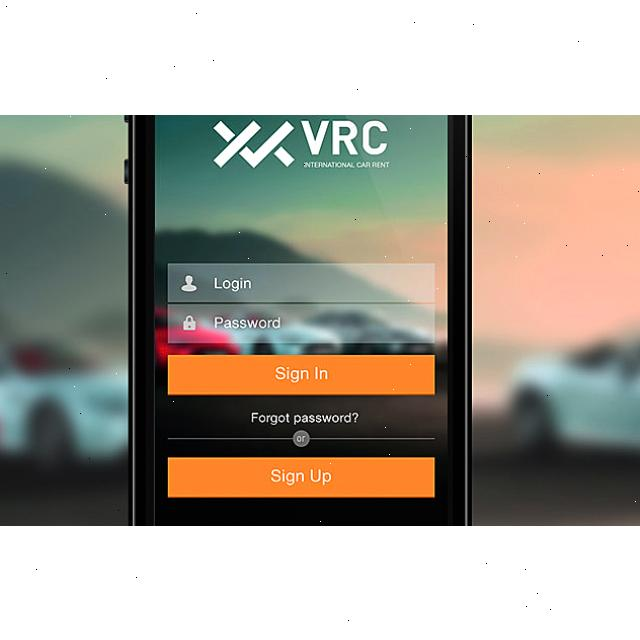QLabel: (249, 410, 361, 424), (271, 466, 331, 486), (275, 366, 329, 382)
VBtn: (168, 353, 436, 395), (167, 455, 435, 497)
VDivider: (310, 436, 436, 439), (168, 436, 292, 439)
VIcon: (294, 429, 310, 446)
VImg: (206, 115, 394, 182)
VTextField: (167, 262, 435, 302), (168, 303, 436, 342)
